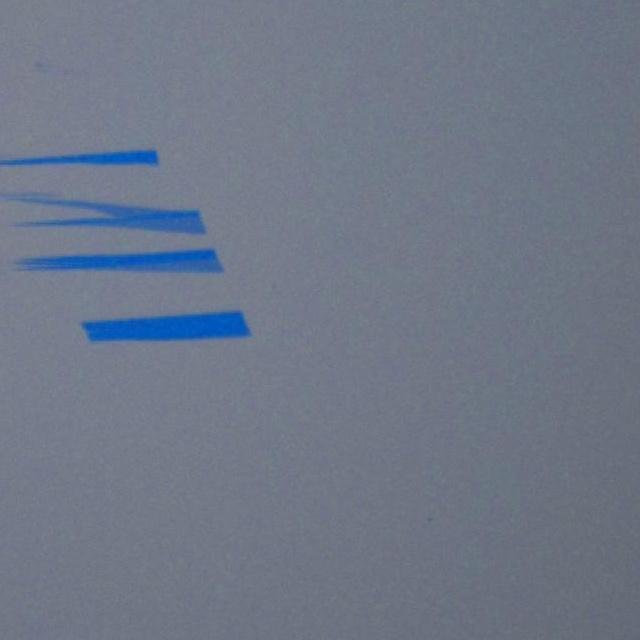monolayer-eWW4: (2, 192, 170, 214), (96, 218, 206, 236), (112, 257, 224, 274)
